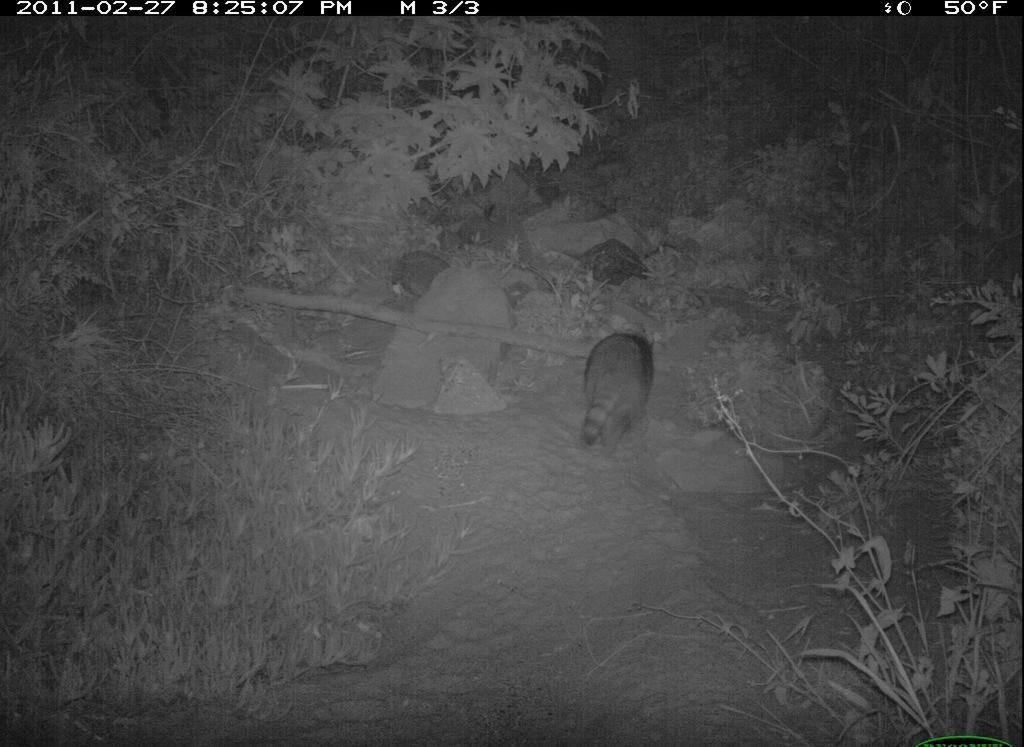raccoon: (573, 317, 670, 461)
